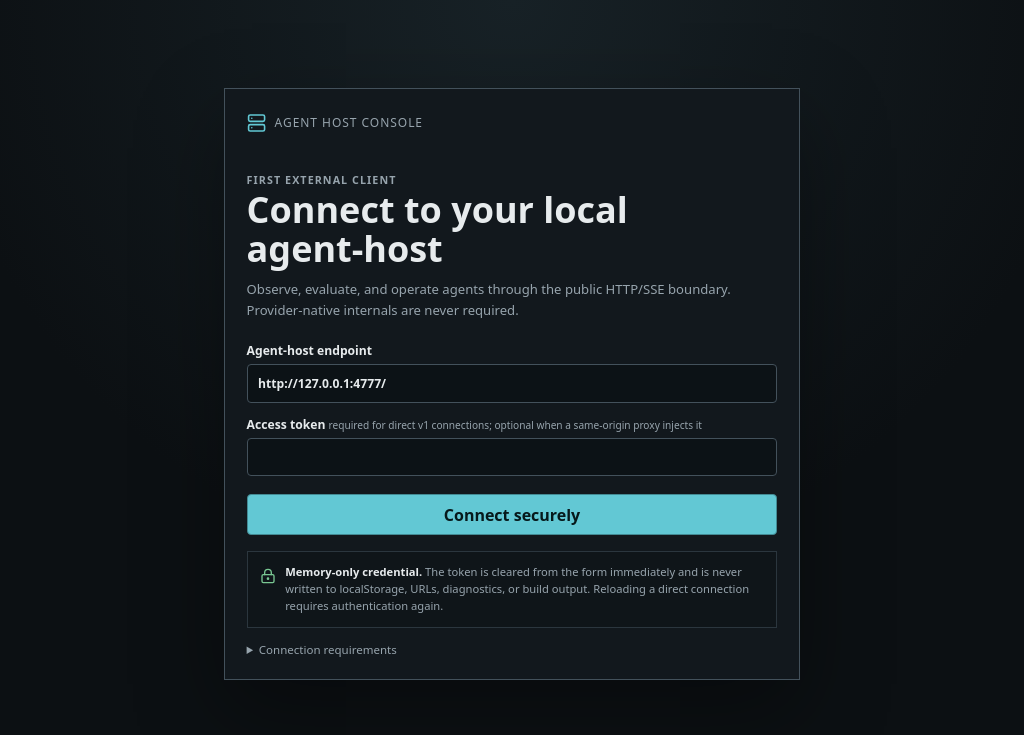
it: daily-driver shell › disposes the active lease and credential after a terminal session failure
The width and height of the screenshot is (1024, 735).
Type "expired-session-secret" into the password field labelled "Access token" at (512, 457), box left=247, top=438, right=777, bottom=476
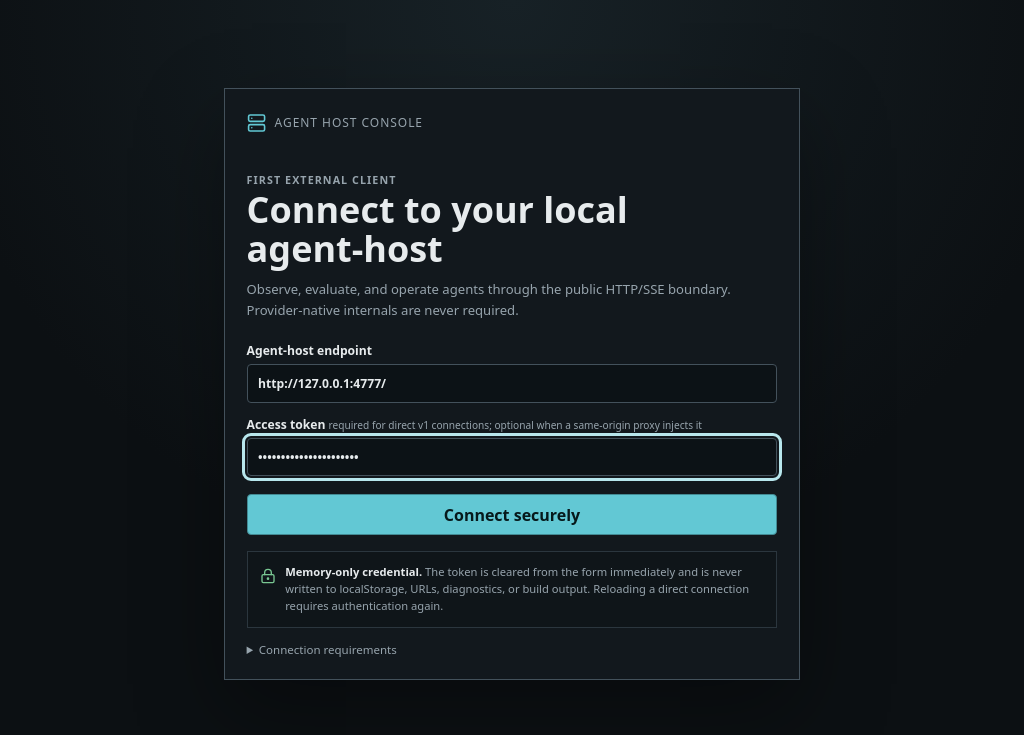
Click the button "Connect securely" at (512, 515), box left=247, top=494, right=777, bottom=536
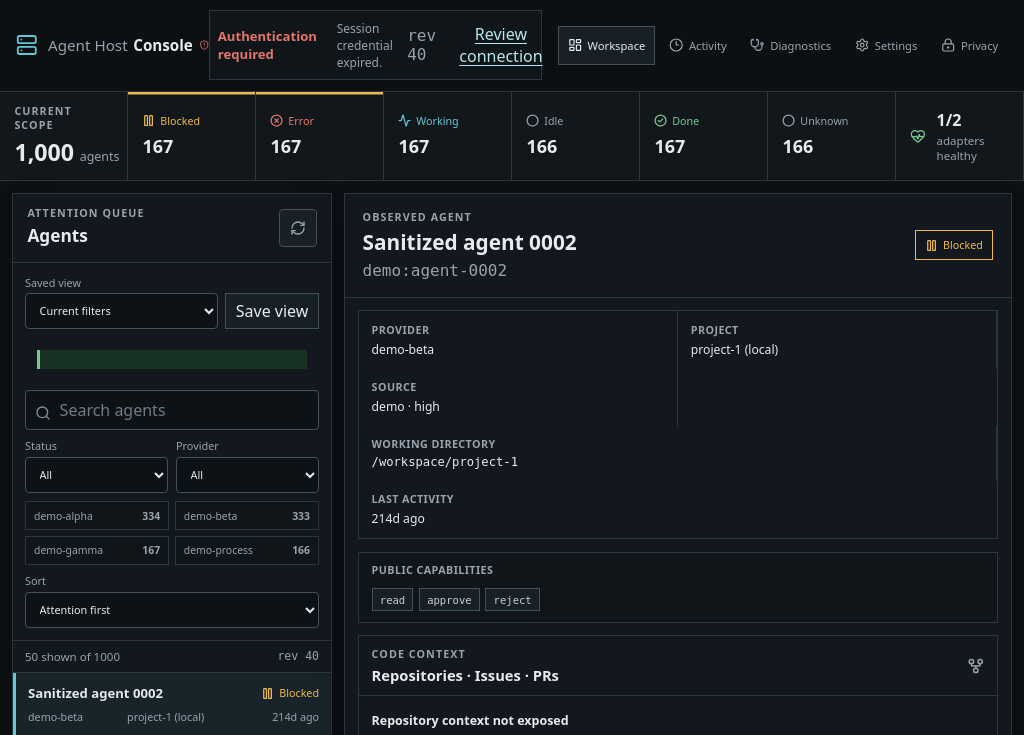
Expected: the text "50 shown of 1000" is shown, left=25, top=648, right=120, bottom=664
Click the button "Review connection" at (501, 45), box left=450, top=19, right=551, bottom=71
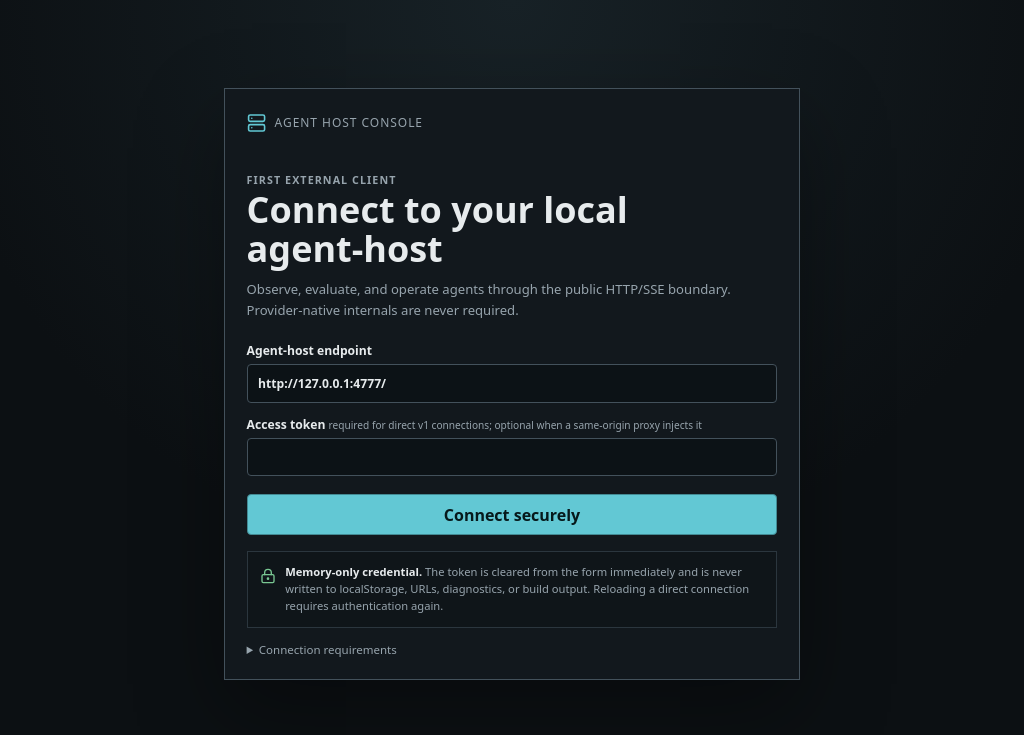
Expected: the heading "Connect to your local agent-host" is shown, left=247, top=191, right=695, bottom=269
